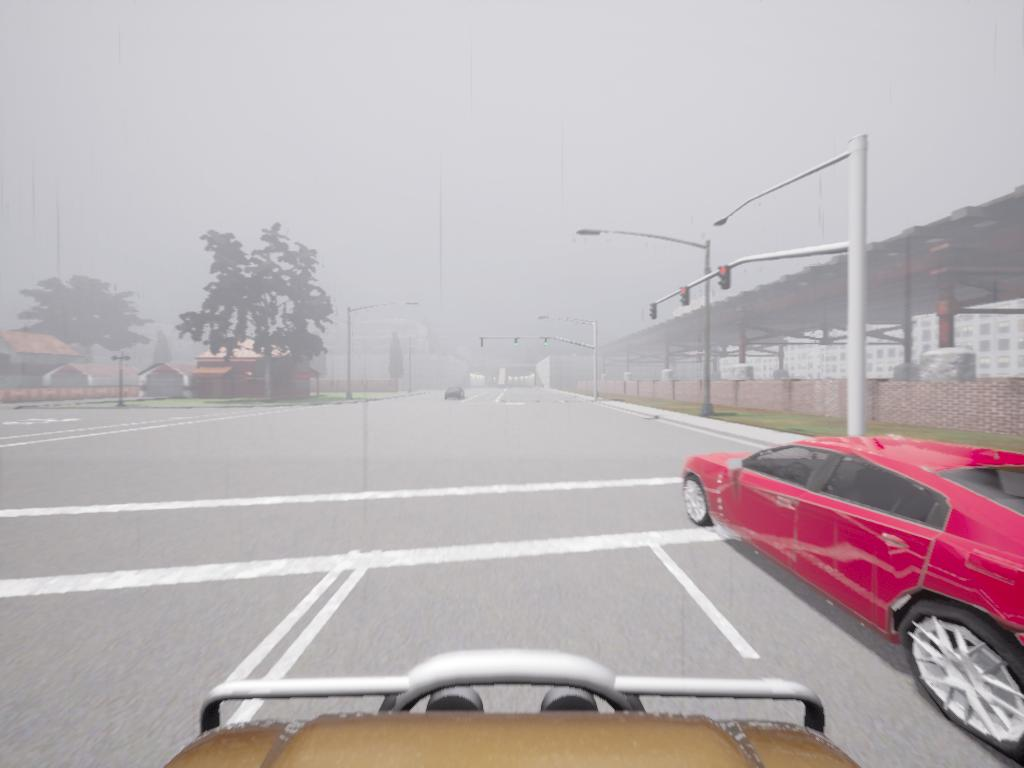traffic_light: (718, 267, 732, 292), (678, 287, 689, 306), (650, 302, 658, 321), (514, 338, 521, 348), (480, 339, 486, 350), (544, 338, 550, 347)
